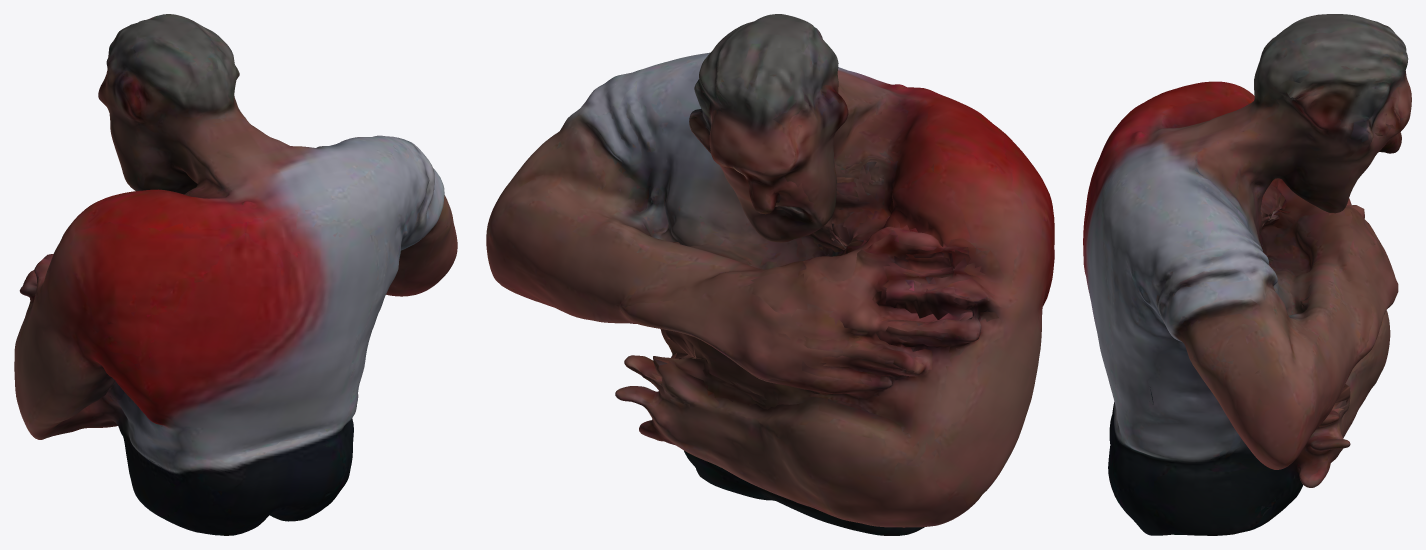
File: man-pain.glb
3 views of the same model, side by side, from view 1: azimuth 30°, elevation 25°; view 2: azimuth 150°, elevation 25°; view 3: azimuth 270°, elevation 25° (orthographic). The views are drawn at different scales.
Parts seen in each view (by area): view 1: ManPainModel; view 2: ManPainModel; view 3: ManPainModel.
Boxes of the visible parts, bbox=[...] form: ManPainModel: bbox=[14, 14, 457, 535]; ManPainModel: bbox=[486, 14, 1054, 535]; ManPainModel: bbox=[1083, 14, 1411, 535].
Bounding box in the file's own units: 0.5377 × 0.5334 × 0.3269.
1 material, 1 textured.
